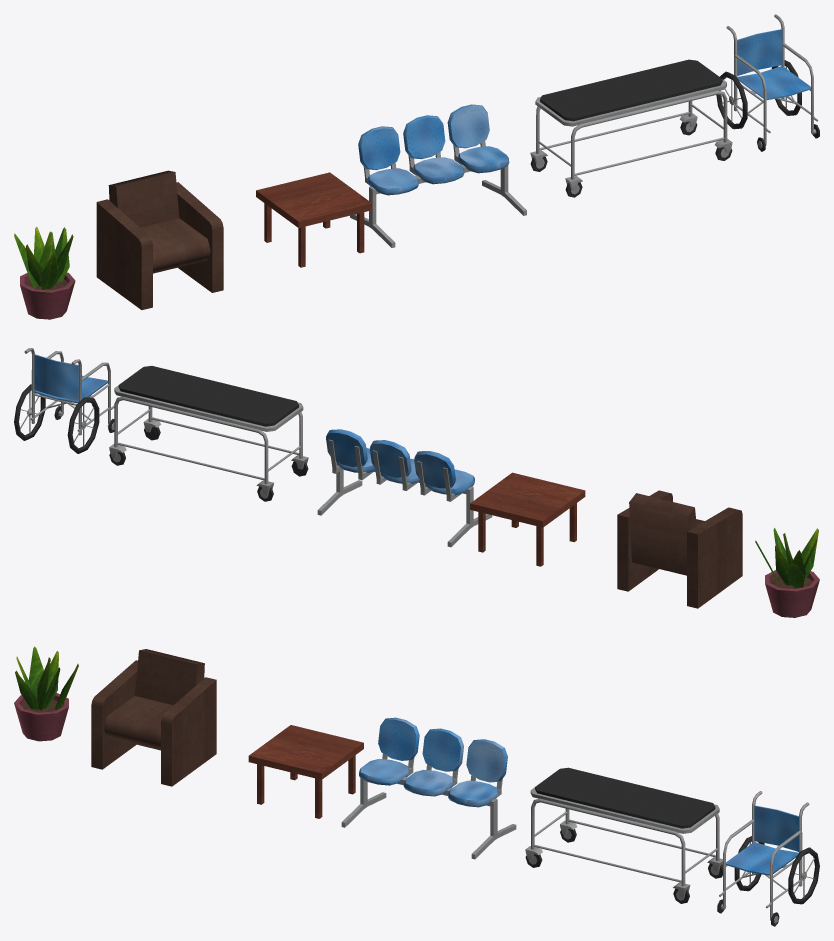
The model's file is Props.fbx.
3 renders of one model, top to bottom at view 1: azimuth 30°, elevation 25°; view 2: azimuth 150°, elevation 25°; view 3: azimuth 330°, elevation 25°, orthographic.
Parts seen in each view (by area): view 1: Sofa, Gurney, Bench, Wheelchair, Small Table, Pot Plant; view 2: Sofa, Gurney, Bench, Wheelchair, Small Table, Pot Plant; view 3: Sofa, Gurney, Bench, Wheelchair, Small Table, Pot Plant.
Boxes of the visible parts, box(x1,y1,x2,y2) form: Sofa: box(96, 170, 223, 309); Gurney: box(530, 59, 732, 197); Bench: box(350, 104, 526, 247); Wheelchair: box(716, 14, 819, 151); Small Table: box(256, 172, 372, 267); Pot Plant: box(14, 226, 75, 319); Sofa: box(617, 490, 742, 608); Gurney: box(109, 366, 308, 501); Bench: box(317, 429, 492, 547); Wheelchair: box(14, 348, 114, 453); Small Table: box(470, 472, 585, 566); Pot Plant: box(755, 528, 819, 617); Sofa: box(91, 649, 216, 786); Gurney: box(525, 767, 722, 903); Bench: box(341, 717, 516, 859); Wheelchair: box(717, 791, 819, 926); Small Table: box(248, 725, 363, 818); Pot Plant: box(14, 646, 78, 741).
Bounding box in the file's own units: 988 × 117 × 117.
